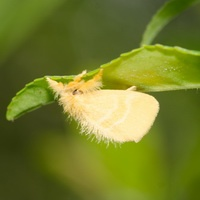insect: (46, 69, 158, 142)
